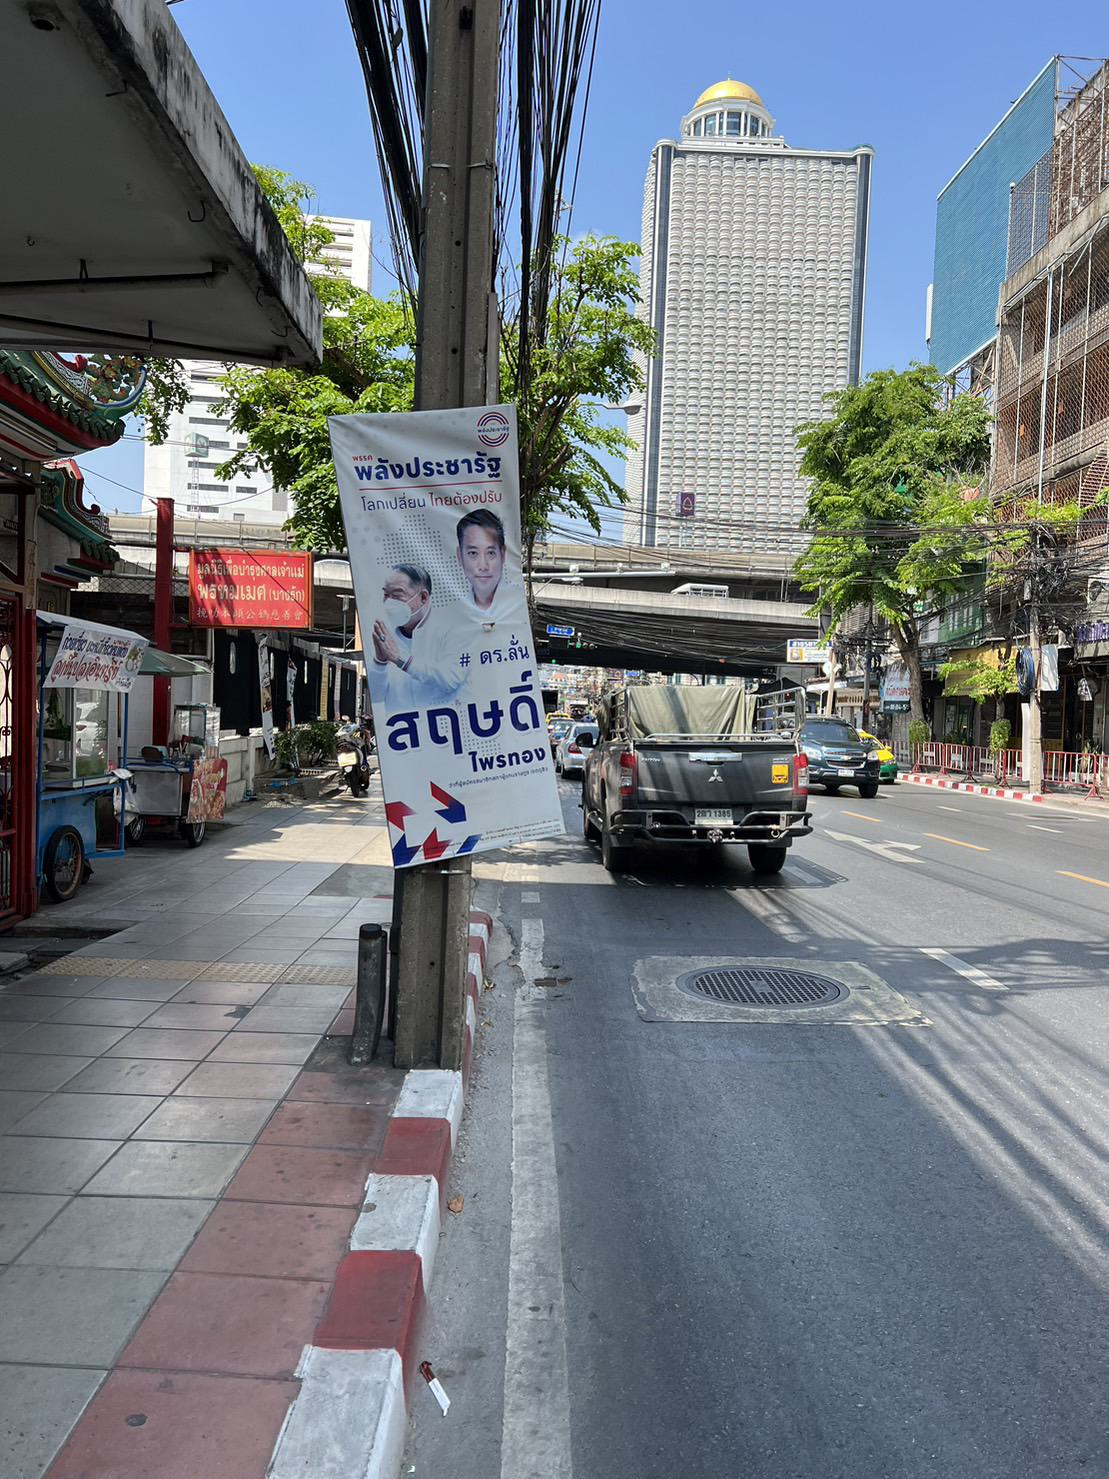Banner: (319, 398, 579, 876)
